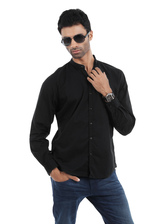clothoes: (16, 57, 141, 181)
glasses: (57, 33, 96, 45)
watch: (101, 89, 118, 105)
